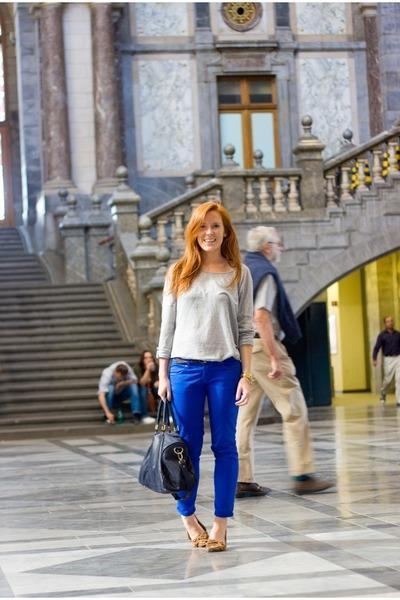bag: (139, 400, 201, 491)
pants: (161, 348, 242, 517)
shirt: (145, 254, 252, 378)
shoe: (197, 519, 226, 552)
